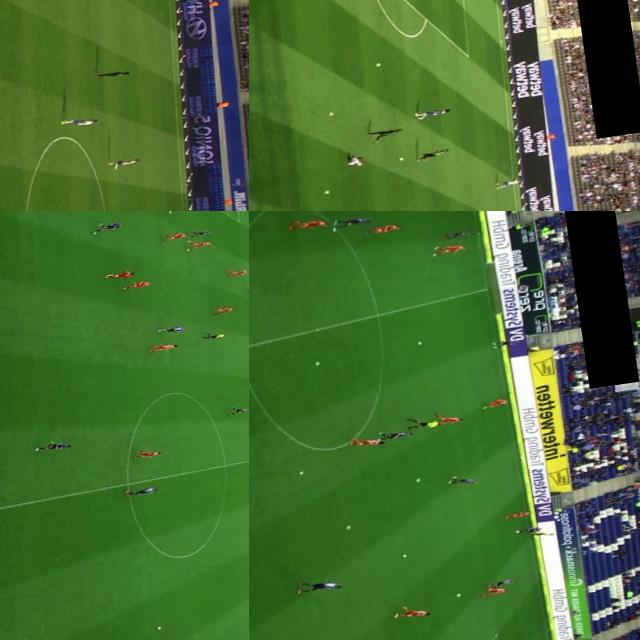ball: (154, 624, 168, 632), (374, 60, 384, 66), (416, 338, 425, 344), (414, 476, 422, 482), (327, 110, 336, 115), (346, 524, 353, 530), (397, 156, 405, 161), (456, 592, 464, 597), (298, 469, 306, 474), (325, 188, 332, 193), (402, 553, 408, 558), (314, 360, 320, 365), (381, 209, 389, 211)
player: (295, 576, 344, 593), (32, 436, 75, 454), (60, 112, 100, 128), (394, 602, 431, 619), (106, 154, 144, 170), (330, 215, 370, 230), (292, 216, 331, 231), (414, 146, 450, 161), (412, 106, 451, 119), (121, 483, 160, 496), (96, 65, 131, 79), (370, 126, 405, 140), (182, 237, 218, 250), (121, 278, 154, 292), (430, 410, 462, 424), (377, 428, 412, 440), (368, 222, 403, 234), (436, 242, 468, 255), (92, 220, 126, 232), (444, 474, 477, 486), (150, 340, 182, 352), (350, 435, 382, 447), (495, 175, 524, 188), (159, 230, 190, 242), (106, 268, 137, 280), (132, 448, 162, 460), (156, 324, 187, 334), (187, 228, 218, 238), (212, 303, 237, 314), (222, 268, 249, 278), (481, 398, 508, 408), (492, 338, 519, 348), (348, 152, 367, 166), (486, 578, 517, 586), (484, 584, 508, 594), (504, 510, 530, 518), (444, 230, 470, 238), (516, 525, 540, 533), (231, 405, 249, 414), (244, 284, 249, 293)
